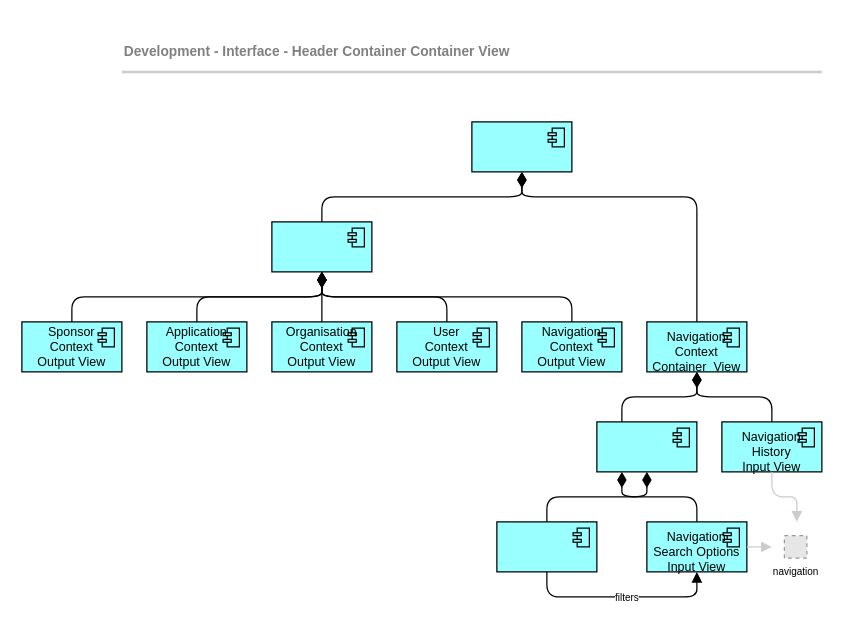
Some shapes in this 845 by 629 pixel diagram are drawn without their labels. Grey dashed boxes stand in for pictures. Here are the shapes that lost their labels. From the top down, the centre of each, then its label:
the point at 521,146: Header Container View
the point at 321,246: Header Context Container View
the point at 646,446: Navigation Options Container View
the point at 546,546: Navigation Search Input View
